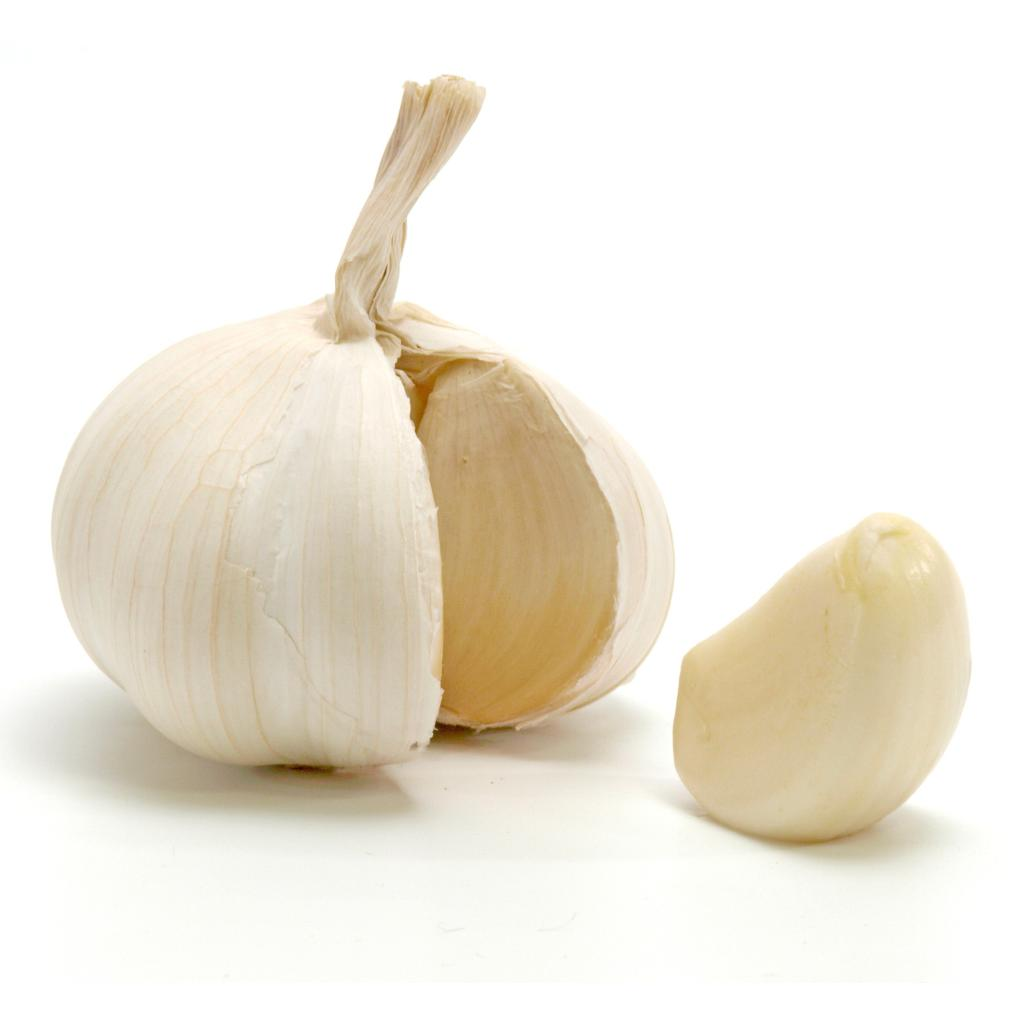garlic: (52, 76, 483, 765), (383, 301, 673, 727), (673, 511, 970, 840)
